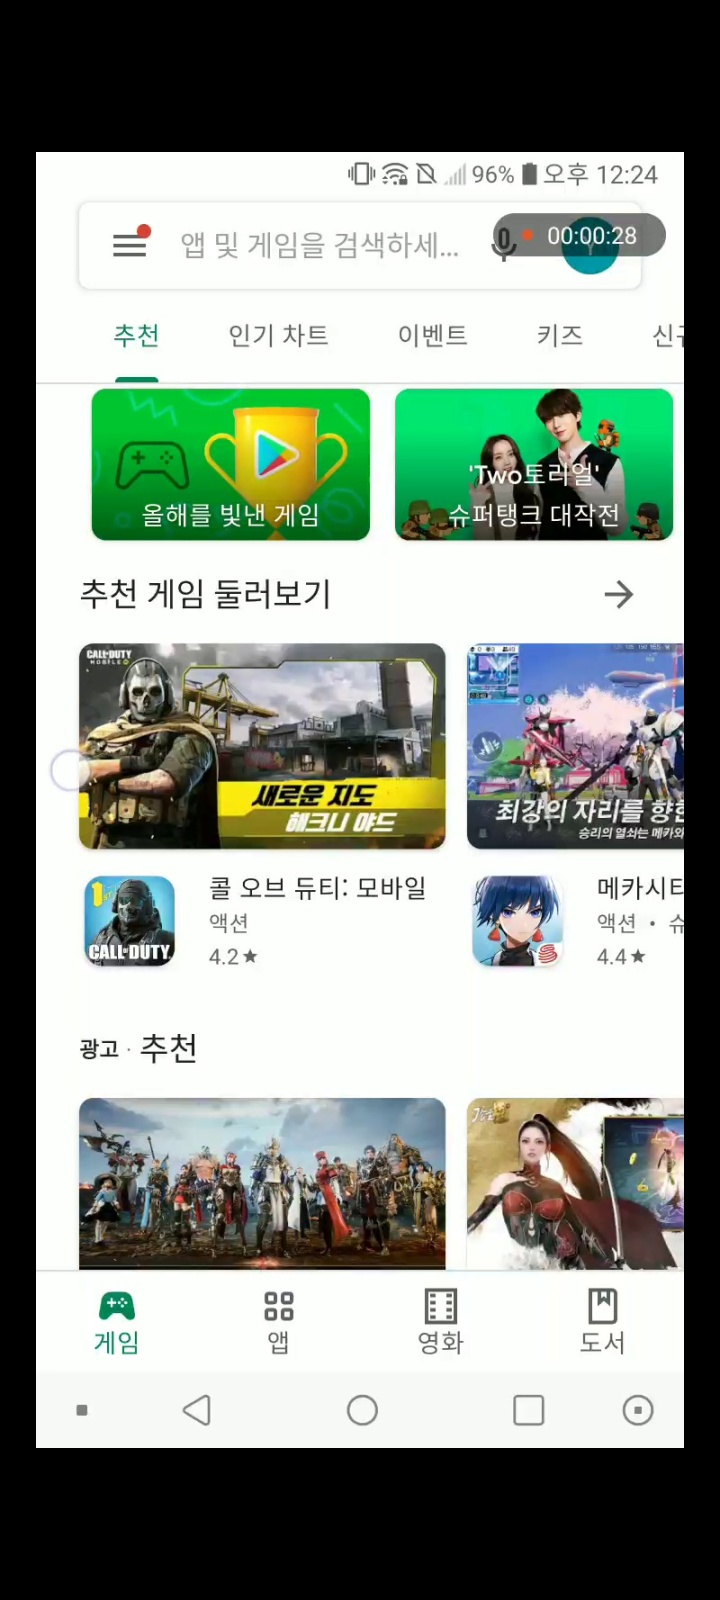Cursor: (48, 748, 93, 793)
